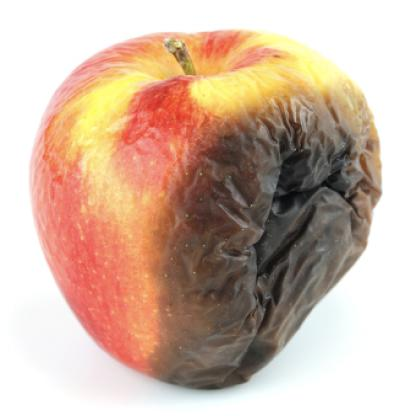Rotten Apple: (35, 32, 386, 388)
